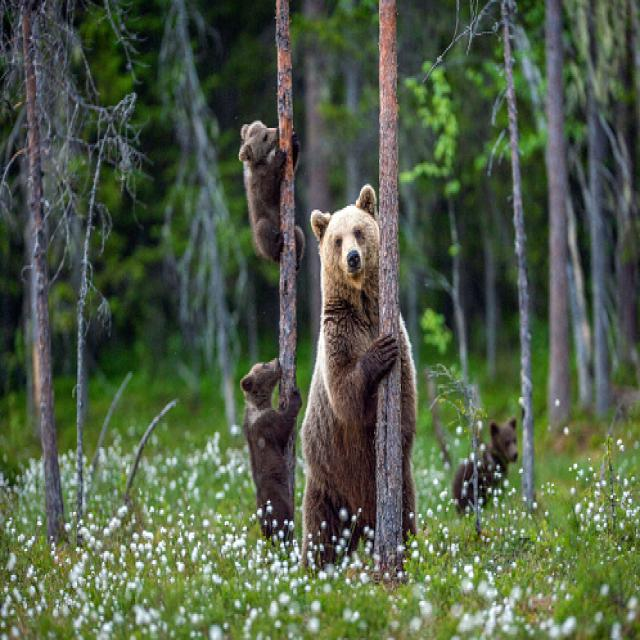Bear: (301, 187, 415, 571), (239, 362, 302, 540), (238, 121, 287, 265)
